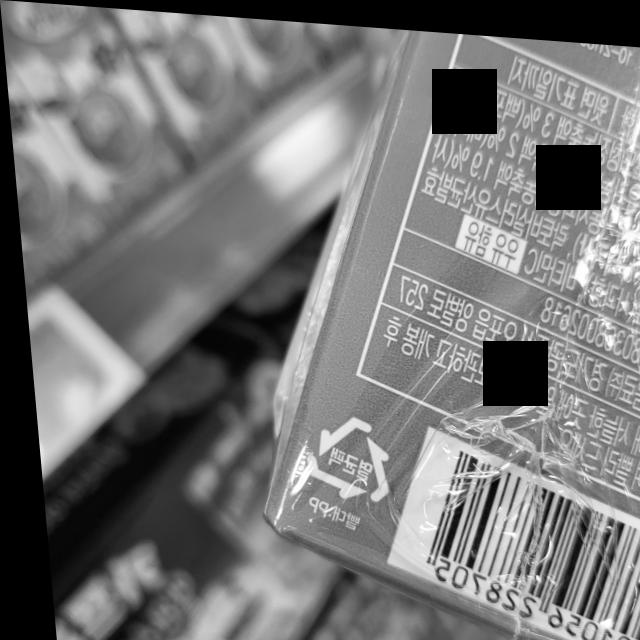SterilizedPack: (292, 406, 386, 499)
